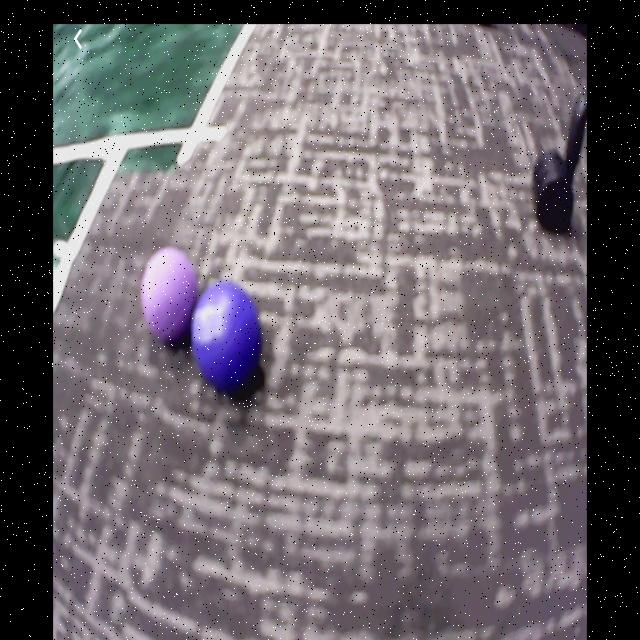ball: (194, 280, 263, 393), (141, 247, 198, 340)
